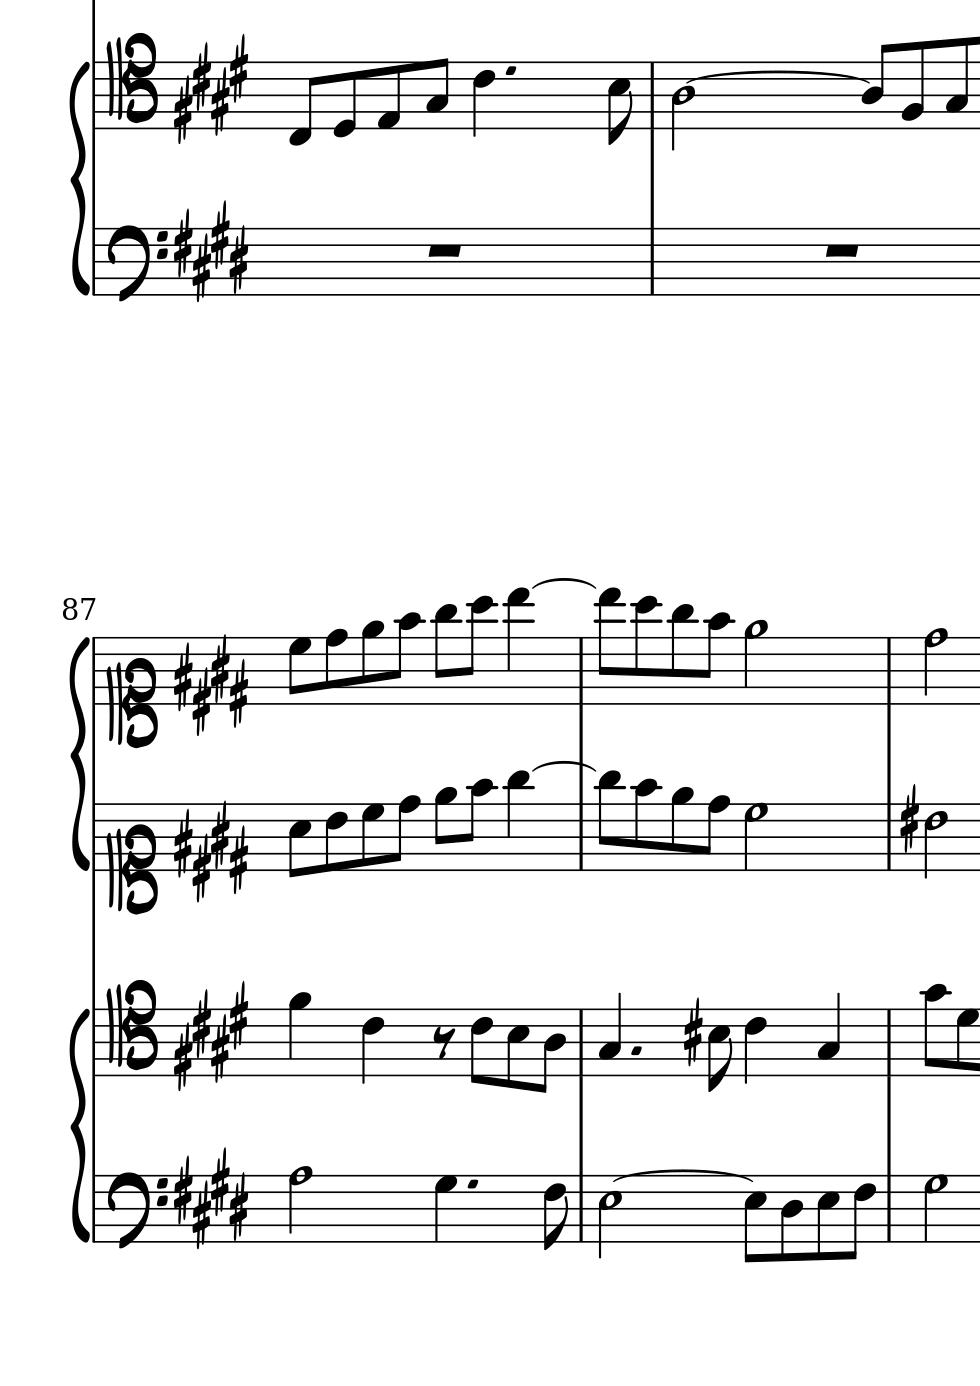2_4: (670, 62, 696, 150)
2_5: (596, 1174, 623, 1259)
2_6: (922, 802, 948, 879)
2_7: (921, 1173, 948, 1245), (742, 802, 766, 872)
2_8: (921, 626, 948, 707), (286, 1164, 311, 1245)
2_9: (742, 620, 767, 707)
4_11: (503, 768, 533, 872)
4_13: (501, 587, 533, 706)
4_3: (815, 993, 841, 1077), (597, 993, 622, 1077)
4_6: (358, 1006, 385, 1086), (470, 60, 495, 138), (742, 1006, 766, 1084)
4_7: (432, 1174, 458, 1243)
4_9: (287, 990, 310, 1077)
7: (78, 595, 97, 622)
8: (60, 596, 78, 622)
8_-1: (285, 60, 319, 150)
8_0: (331, 60, 358, 140)
8_1: (374, 59, 402, 131)
8_10: (701, 611, 732, 706), (463, 776, 494, 872), (391, 610, 421, 706), (922, 981, 949, 1078), (632, 777, 658, 872)
8_11: (595, 767, 624, 873), (668, 601, 696, 706), (432, 602, 459, 706)
8_12: (463, 593, 495, 706), (632, 594, 660, 707)
8_13: (593, 587, 624, 704)
8_2: (899, 40, 925, 131)
8_3: (943, 36, 970, 131), (423, 56, 450, 131)
8_4: (860, 43, 893, 131), (537, 1008, 566, 1095), (778, 1173, 803, 1262)
8_5: (605, 62, 633, 147), (813, 1173, 839, 1262), (705, 1006, 731, 1094), (742, 1174, 767, 1264), (504, 1007, 529, 1091), (286, 801, 311, 879)
8_6: (845, 1174, 877, 1262), (541, 1173, 568, 1252), (468, 1007, 493, 1087), (323, 802, 348, 875)
8_7: (358, 802, 384, 872), (287, 635, 311, 705), (953, 1007, 977, 1076)
8_8: (388, 793, 419, 873), (698, 794, 729, 873), (323, 628, 348, 706)
8_9: (360, 619, 384, 705), (669, 786, 694, 872), (433, 786, 457, 871)
Brace: (68, 56, 89, 301), (68, 1006, 89, 1246), (68, 631, 88, 880)
E_S: (172, 35, 252, 140), (171, 634, 251, 737), (173, 981, 248, 1087), (173, 800, 249, 903), (174, 1150, 250, 1249), (176, 201, 252, 299)
Fclef: (105, 222, 169, 304), (105, 1170, 167, 1252)
Rests1: (424, 239, 465, 260), (821, 240, 862, 260)
Rests8: (430, 1025, 455, 1060)
Sharp: (681, 1000, 703, 1068), (897, 786, 918, 855)
Single_barline: (879, 638, 898, 704), (644, 62, 661, 129), (572, 638, 589, 705), (644, 228, 660, 295), (573, 803, 589, 870), (881, 1010, 897, 1076), (881, 803, 896, 871), (881, 1174, 896, 1242), (574, 1174, 589, 1241), (88, 803, 102, 872), (574, 1010, 588, 1076), (89, 62, 102, 129), (88, 638, 101, 704), (88, 229, 101, 294), (88, 1176, 101, 1241), (89, 1008, 101, 1075)
Slur: (682, 70, 870, 88), (611, 1166, 750, 1185), (533, 759, 593, 775), (531, 577, 596, 590)
Soprano_Cclef: (105, 800, 155, 913), (104, 634, 154, 747)
Tensor_Cclef: (103, 32, 159, 131), (104, 979, 156, 1077)
dot: (502, 63, 518, 78), (465, 1177, 480, 1191), (628, 1043, 643, 1057)
